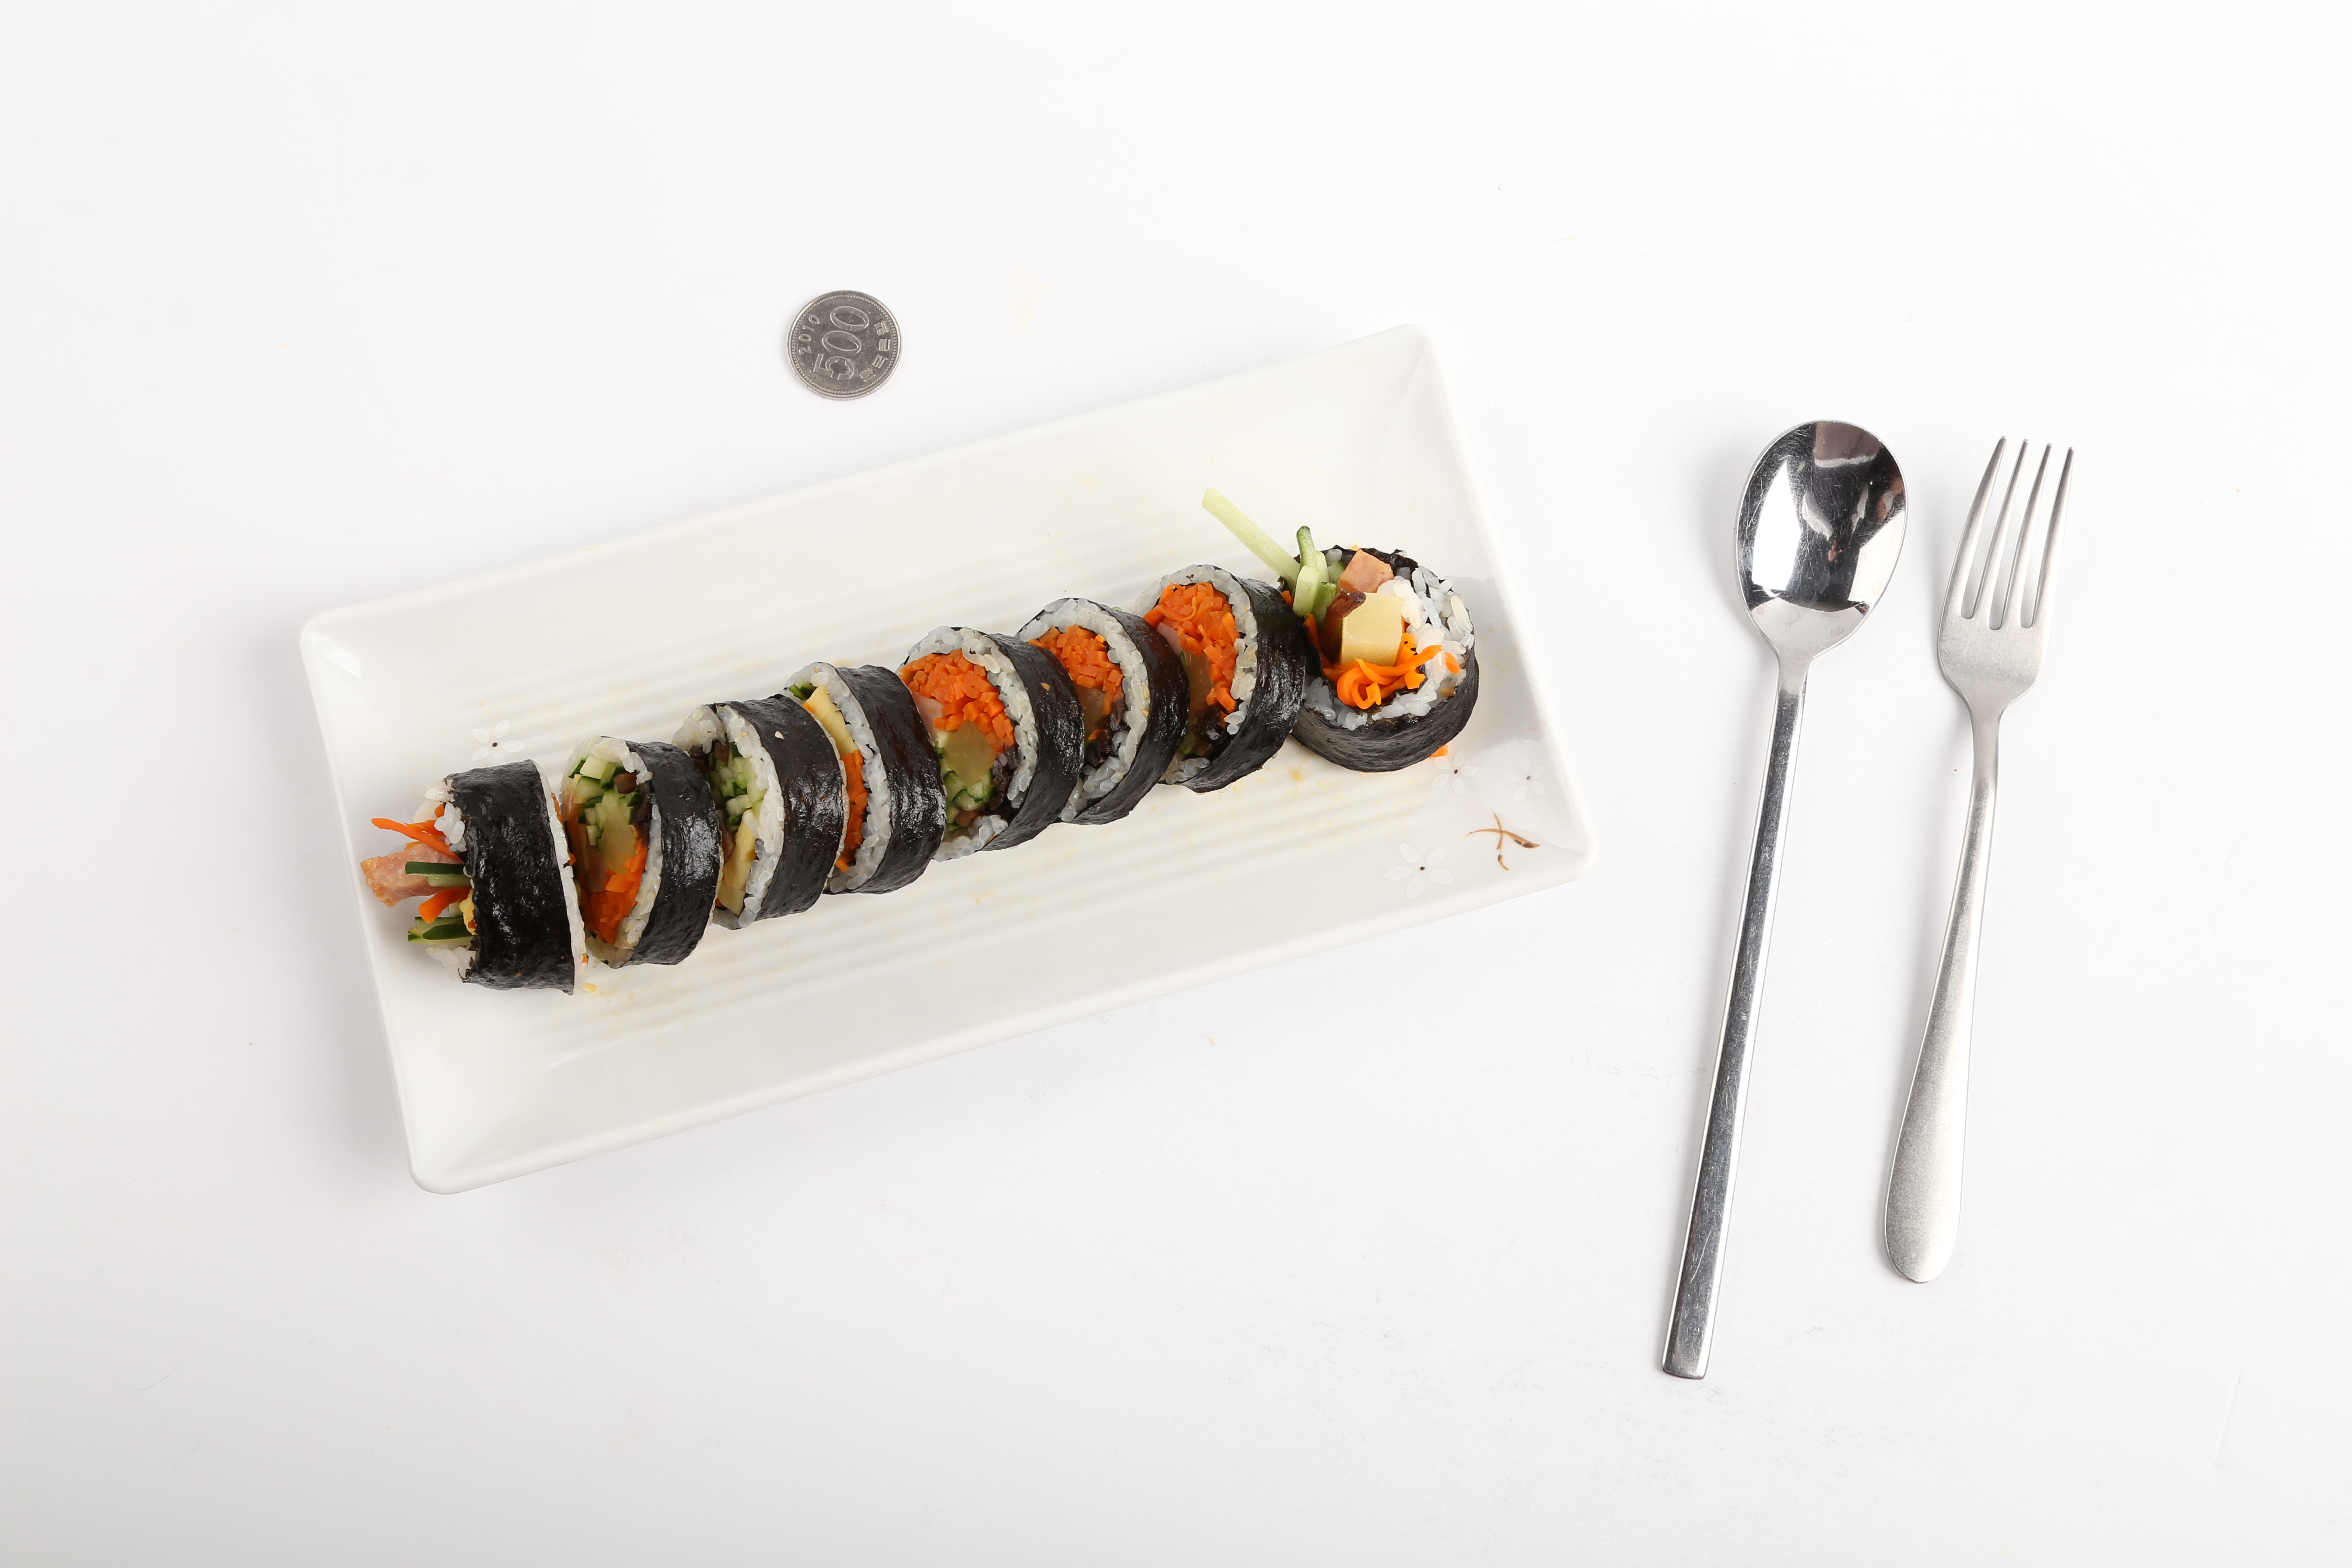dish: (296, 324, 1598, 1192)
ref_coin: (775, 280, 905, 406)
ref_fork: (1934, 430, 2077, 766)
ref_spoon: (1724, 406, 1911, 738)
김밥: (432, 541, 1482, 996)
